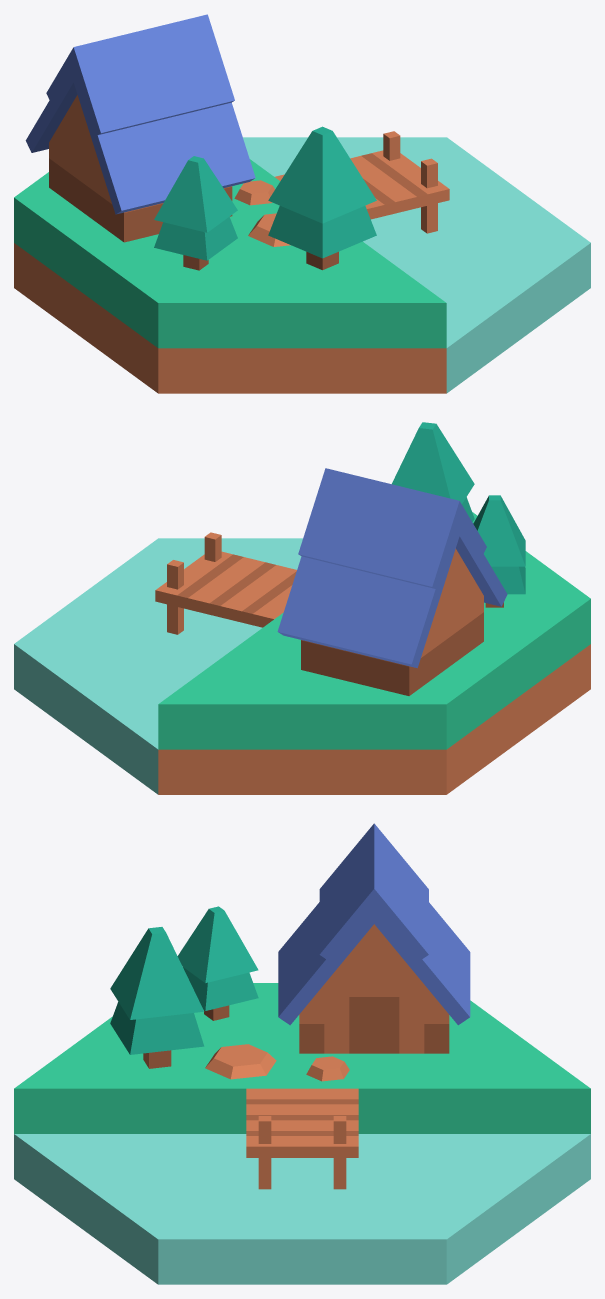
The model's file is Building Dock.glb.
3 renders of one model, top to bottom at view 1: azimuth 30°, elevation 25°; view 2: azimuth 150°, elevation 25°; view 3: azimuth 270°, elevation 25°, orthographic.
Visible parts, largest first — view 1: building_dock, building, tree.001, tree, dock, path, path.001; view 2: building_dock, building, dock, tree.001, tree; view 3: building_dock, building, dock, tree.001, tree, path.001, path.
Part boxes in pixels (x1,y1,x2,y2): building_dock: (14,137,590,393); building: (25,14,255,242); tree.001: (268,126,376,270); tree: (154,156,237,270); dock: (275,131,449,233); path: (234,180,274,205); path.001: (248,213,290,246); building_dock: (14,512,590,794); building: (277,468,507,695); dock: (155,532,296,634); tree.001: (392,422,474,521); tree: (473,495,525,607); building_dock: (14,983,590,1284); building: (278,823,470,1053); dock: (246,1088,358,1189); tree.001: (110,927,204,1068); tree: (177,906,258,1020); path.001: (205,1044,276,1079); path: (306,1056,349,1081).
Bounding box in the file's own units: 1 × 0.5781 × 1.15.
